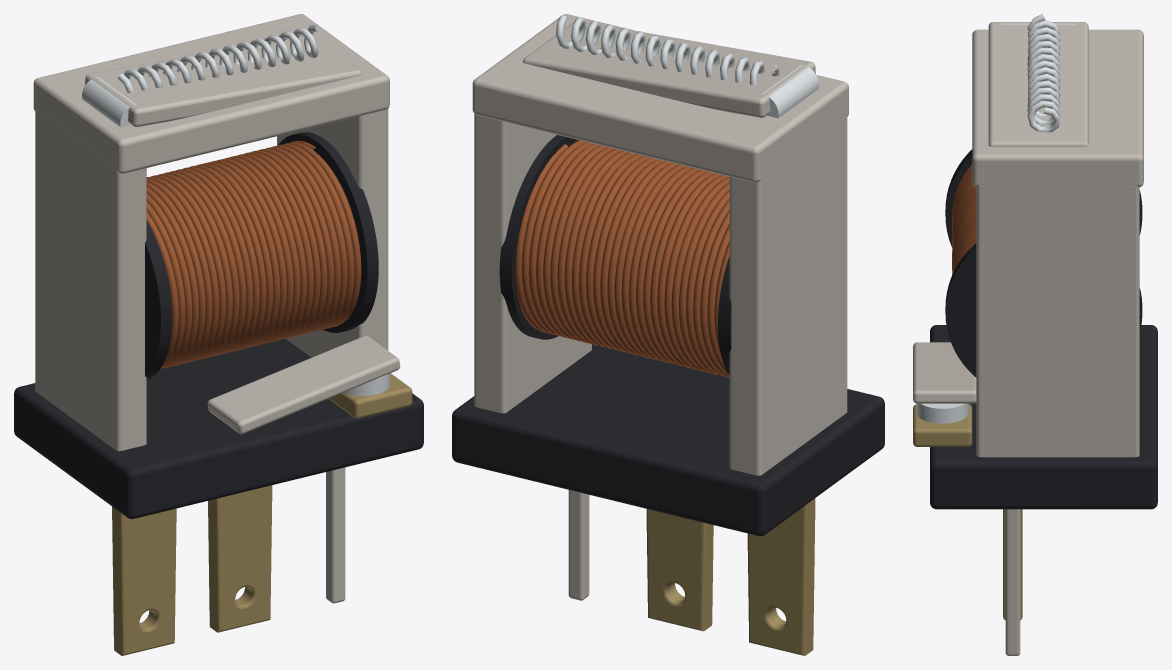
The model's file is components-07.glb.
3 renders of one model, left to right at view 1: azimuth 30°, elevation 25°; view 2: azimuth 150°, elevation 25°; view 3: azimuth 270°, elevation 25°, orthographic. The views are drawn at different scales.
Visible parts, largest first — view 1: frame, coil, terminals, contacts, object 5, object 6; view 2: frame, coil, terminals, object 5, contacts, object 6; view 3: frame, contacts, object 5, coil, terminals.
Boxes of the visible parts, bbox=[...] form: frame: bbox=[14, 14, 423, 518]; coil: bbox=[145, 132, 378, 379]; terminals: bbox=[112, 467, 345, 655]; contacts: bbox=[118, 24, 412, 434]; object 5: bbox=[85, 36, 362, 126]; object 6: bbox=[82, 76, 136, 127]; frame: bbox=[452, 14, 884, 536]; coil: bbox=[499, 135, 731, 377]; terminals: bbox=[568, 490, 815, 655]; object 5: bbox=[523, 22, 815, 117]; contacts: bbox=[556, 15, 779, 85]; object 6: bbox=[761, 64, 818, 118]; frame: bbox=[930, 29, 1157, 509]; contacts: bbox=[913, 14, 1060, 446]; object 5: bbox=[988, 22, 1088, 146]; coil: bbox=[945, 149, 1142, 377]; terminals: bbox=[1003, 509, 1022, 655].
Bounding box in the file's own units: 1.18 × 2.14 × 0.87.
